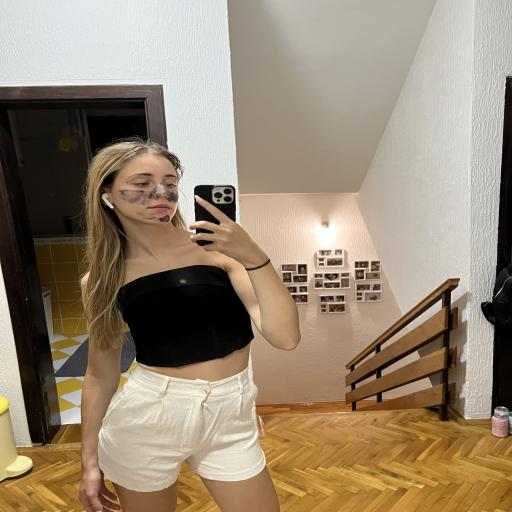masa: (99, 151, 185, 225)
